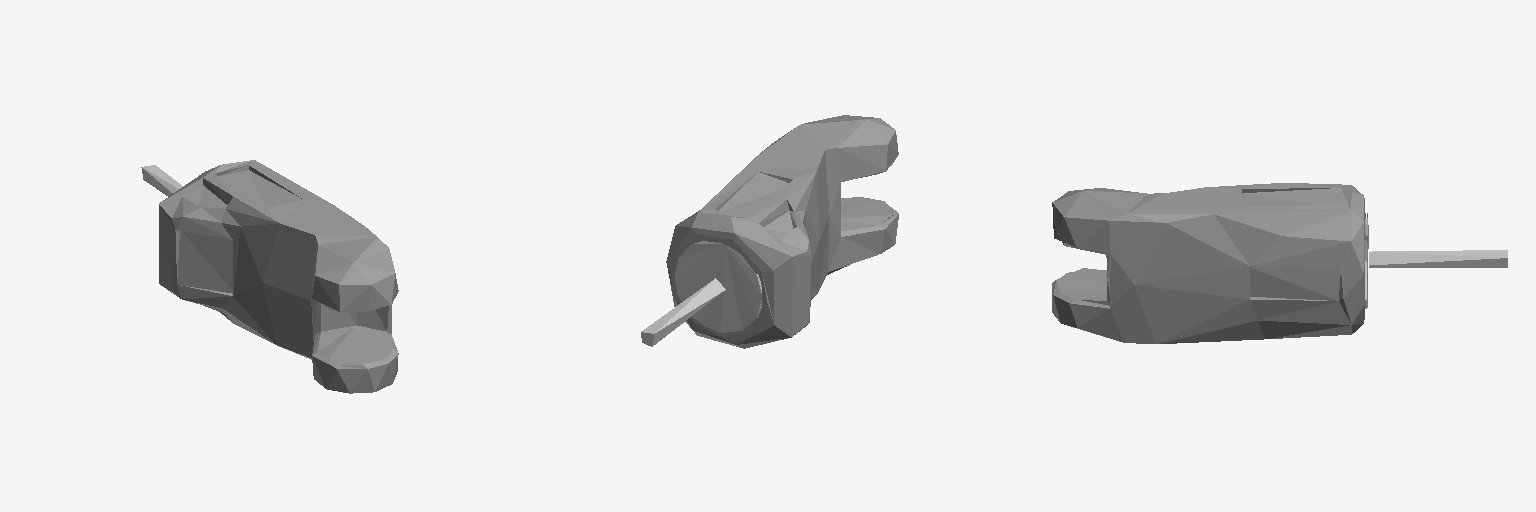
Rendered from r_forearm_roll_link.OBJ.
The picture shows the model from 3 angles: view 1: azimuth 30°, elevation 25°; view 2: azimuth 150°, elevation 25°; view 3: azimuth 270°, elevation 25°; orthographic projection.
Visible parts, largest first — view 1: /ambf/env/pr2/r_forearm_roll_link_/ambf/env/pr2/r_forearm_roll_l; view 2: /ambf/env/pr2/r_forearm_roll_link_/ambf/env/pr2/r_forearm_roll_l; view 3: /ambf/env/pr2/r_forearm_roll_link_/ambf/env/pr2/r_forearm_roll_l.
Part boxes in pixels (bbox=[...]): /ambf/env/pr2/r_forearm_roll_link_/ambf/env/pr2/r_forearm_roll_l: bbox=[141, 160, 398, 393]; /ambf/env/pr2/r_forearm_roll_link_/ambf/env/pr2/r_forearm_roll_l: bbox=[641, 115, 898, 348]; /ambf/env/pr2/r_forearm_roll_link_/ambf/env/pr2/r_forearm_roll_l: bbox=[1052, 183, 1507, 343].
Size of the model in its own units: 0.1198 by 0.1197 by 0.3814.